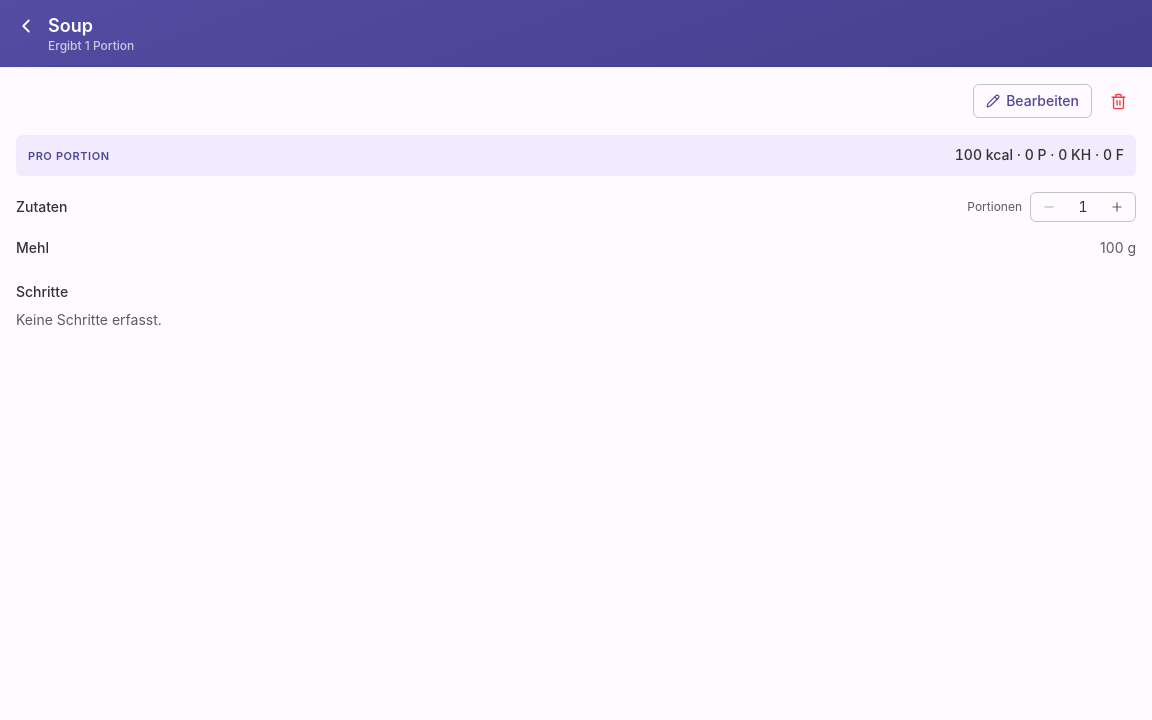
Scenario: RecipeDetail — header back-arrow › puts the editor title inside the app header, never as a body heading
This screenshot has width=1152, height=720.
Check: the heading "Soup" is shown, box [48, 15, 93, 36]
Click the button with aria-label "rezept bearbeiten".
click(1033, 101)  # box [973, 84, 1092, 118]
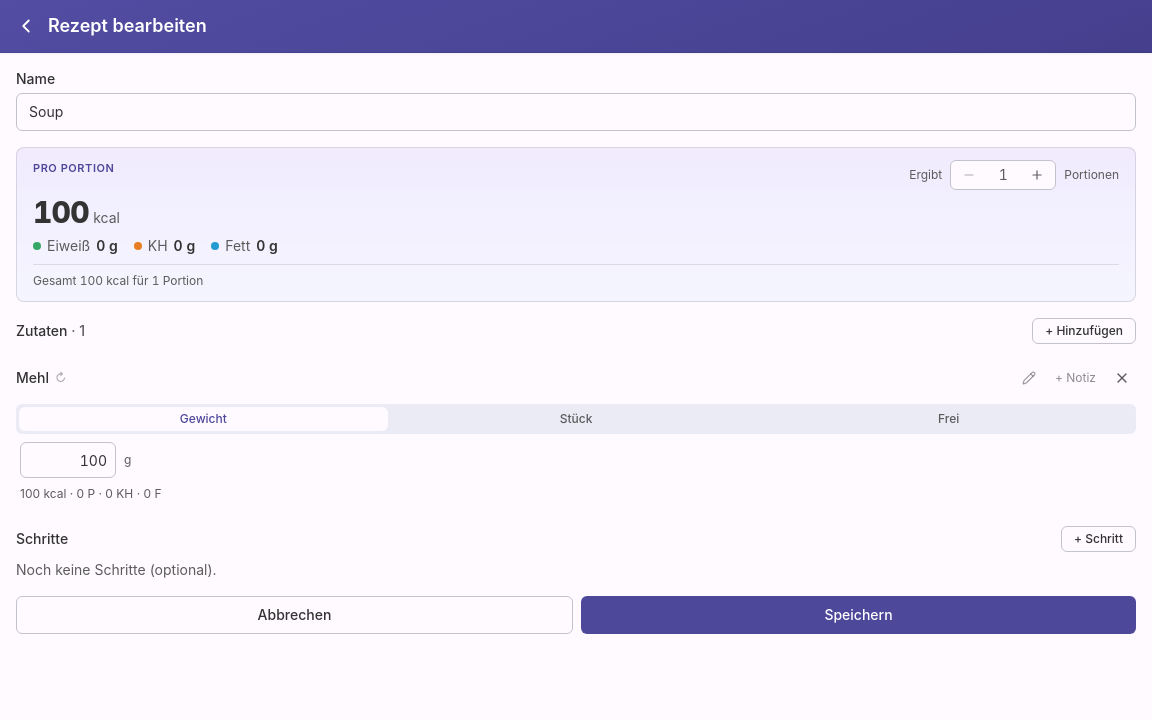
Check: the number of headings "Rezept bearbeiten" is 1, box [48, 15, 207, 36]
Check: the header "Rezept bearbeiten" is shown, box [0, 0, 1151, 53]
